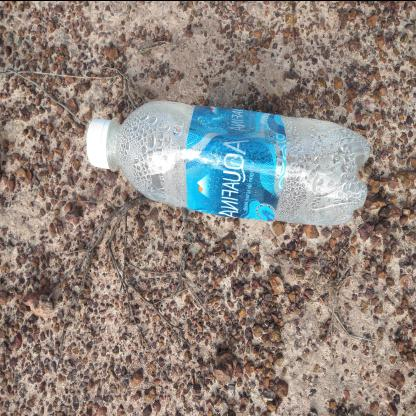plastik: (84, 96, 370, 228)
